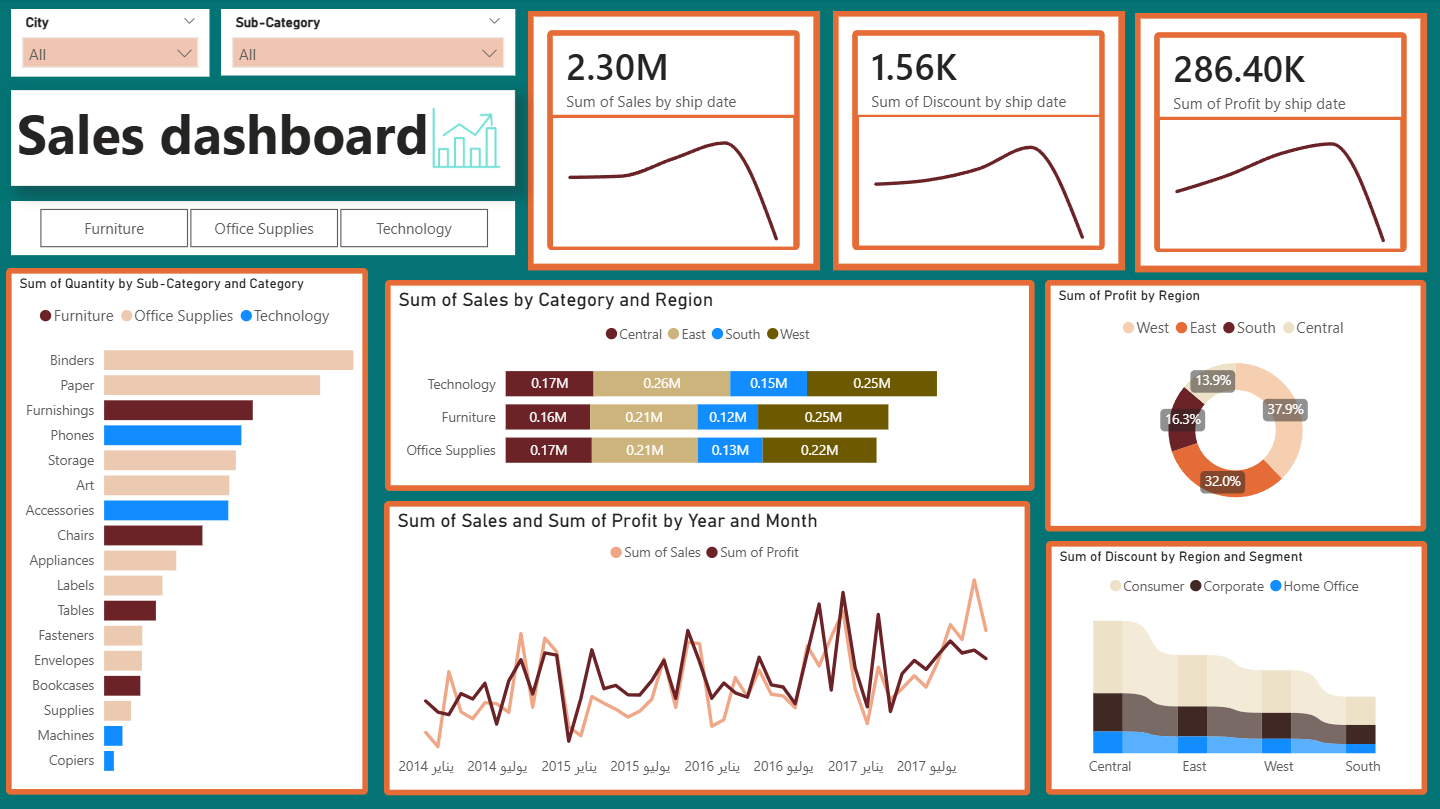

What the dashboard file says about the page in this screenshot:
{"tool":"powerbi","page":{"name":"Dashboard","canvas":[1280,720],"ordinal":1},"visuals":[{"type":"ribbonChart","fields":{"Category":["Orders.Region"],"Y":["Sum(Orders.Discount)"],"Series":["Orders.Segment"]},"box":[931,481.5,337.8,225.2],"z":0},{"type":"donutChart","fields":{"Category":["Orders.Region"],"Y":["Sum(Orders.Profit)"]},"box":[930.1,250,337.8,222.6],"z":1000},{"type":"barChart","fields":{"Category":["Orders.Sub-Category"],"Y":["Sum(Orders.Quantity)"],"Series":["Orders.Category"]},"box":[8.9,239.4,321,467.3],"z":2000},{"type":"lineChart","fields":{"Y":["Sum(Orders.Sales)"],"Category":["Orders.Order Date.Variation.Date Hierarchy.Year","Orders.Order Date.Variation.Date Hierarchy.Month"],"Y2":["Sum(Orders.Profit)"]},"box":[344,446,572.8,260.7],"z":3000},{"type":"barChart","fields":{"Y":["Sum(Orders.Sales)"],"Category":["Orders.Category"],"Series":["Orders.Region"]},"box":[344.9,250,576.4,187.1],"z":4000},{"type":"cardVisual","fields":{"Data":["Sum(Orders.Sales)"]},"box":[471.7,11.6,258.7,229.5],"z":4502,"group":"g4"},{"type":"cardVisual","fields":{"Data":["Sum(Orders.Discount)"]},"box":[742.2,11.6,258.7,229.5],"z":4502,"group":"g2"},{"type":"cardVisual","fields":{"Data":["Sum(Orders.Profit)"]},"box":[1010,13.4,258.7,229.5],"z":4502,"group":"g5"},{"type":"group","id":"g1","title":"Group 1","box":[1010,13.4,258,229.7],"z":5000},{"type":"lineChart","fields":{"Category":["Orders.Ship Date.Variation.Date Hierarchy.Year"],"Y":["Sum(Orders.Discount)"]},"box":[765,105.6,213,113.8],"z":5003,"group":"g2"},{"type":"lineChart","fields":{"Y":["Sum(Orders.Sales)"],"Category":["Orders.Ship Date.Variation.Date Hierarchy.Year"]},"box":[493.9,106.5,213,113.8],"z":5003,"group":"g4"},{"type":"lineChart","fields":{"Category":["Orders.Ship Date.Variation.Date Hierarchy.Year"],"Y":["Sum(Orders.Profit)"]},"box":[1032.2,108.3,213,113.8],"z":5003,"group":"g5"},{"type":"group","id":"g2","title":"Group 2","box":[742.2,11.6,258.9,229.7],"z":6000},{"type":"group","id":"g3","title":"Group 1","box":[471.7,11.6,258.9,229.7],"z":7000},{"type":"group","id":"g4","title":"Group 2","box":[471.7,11.6,258.7,229.5],"z":7001,"group":"g3"},{"type":"group","id":"g5","title":"Group 2","box":[1010,13.4,258.7,229.5],"z":7001,"group":"g1"},{"type":"slicer","fields":{"Values":["Orders.Category"]},"box":[13.3,180,446.9,47.9],"z":8000},{"type":"slicer","fields":{"Values":["Orders.City"]},"box":[13.3,9.8,176.5,60.3],"z":9000},{"type":"slicer","fields":{"Values":["Orders.Sub-Category"]},"box":[199.5,9.8,260.7,58.5],"z":10000},{"type":"textbox","box":[13.3,81.6,446.9,85.1],"z":11000},{"type":"image","box":[382.2,94,70,60.3],"z":12000}]}

Visuals, with their boxes in screenshot pixels (x1, y1, x2, y2), scaled from the page's 1280x720 canvas onto the 1440x809 screenshot:
ribbonChart - Orders.Region x Sum(Orders.Discount): detection(1047, 541, 1427, 794)
donutChart - Orders.Region x Sum(Orders.Profit): detection(1046, 281, 1426, 531)
barChart - Orders.Sub-Category x Sum(Orders.Quantity): detection(10, 269, 371, 794)
lineChart - Sum(Orders.Sales) x Orders.Order Date.Variation.Date Hierarchy.Year: detection(387, 501, 1031, 794)
barChart - Sum(Orders.Sales) x Orders.Category: detection(388, 281, 1036, 491)
cardVisual - Sum(Orders.Sales): detection(531, 13, 822, 271)
cardVisual - Sum(Orders.Discount): detection(835, 13, 1126, 271)
cardVisual - Sum(Orders.Profit): detection(1136, 15, 1427, 273)
"Group 1" group: detection(1136, 15, 1426, 273)
lineChart - Orders.Ship Date.Variation.Date Hierarchy.Year x Sum(Orders.Discount): detection(861, 119, 1100, 247)
lineChart - Sum(Orders.Sales) x Orders.Ship Date.Variation.Date Hierarchy.Year: detection(556, 120, 795, 248)
lineChart - Orders.Ship Date.Variation.Date Hierarchy.Year x Sum(Orders.Profit): detection(1161, 122, 1401, 250)
"Group 2" group: detection(835, 13, 1126, 271)
"Group 1" group: detection(531, 13, 822, 271)
"Group 2" group: detection(531, 13, 822, 271)
"Group 2" group: detection(1136, 15, 1427, 273)
slicer - Orders.Category: detection(15, 202, 518, 256)
slicer - Orders.City: detection(15, 11, 214, 79)
slicer - Orders.Sub-Category: detection(224, 11, 518, 77)
textbox: detection(15, 92, 518, 187)
image: detection(430, 106, 509, 173)
